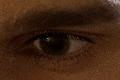eye: (40, 34, 70, 56)
